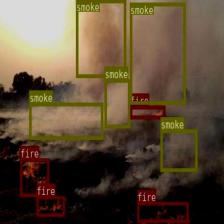fire: (19, 158, 49, 197), (137, 201, 188, 222), (36, 195, 64, 216), (130, 105, 164, 118)
smoke: (130, 2, 185, 104), (75, 0, 125, 77), (29, 102, 102, 139), (160, 129, 197, 171), (104, 78, 130, 128)
